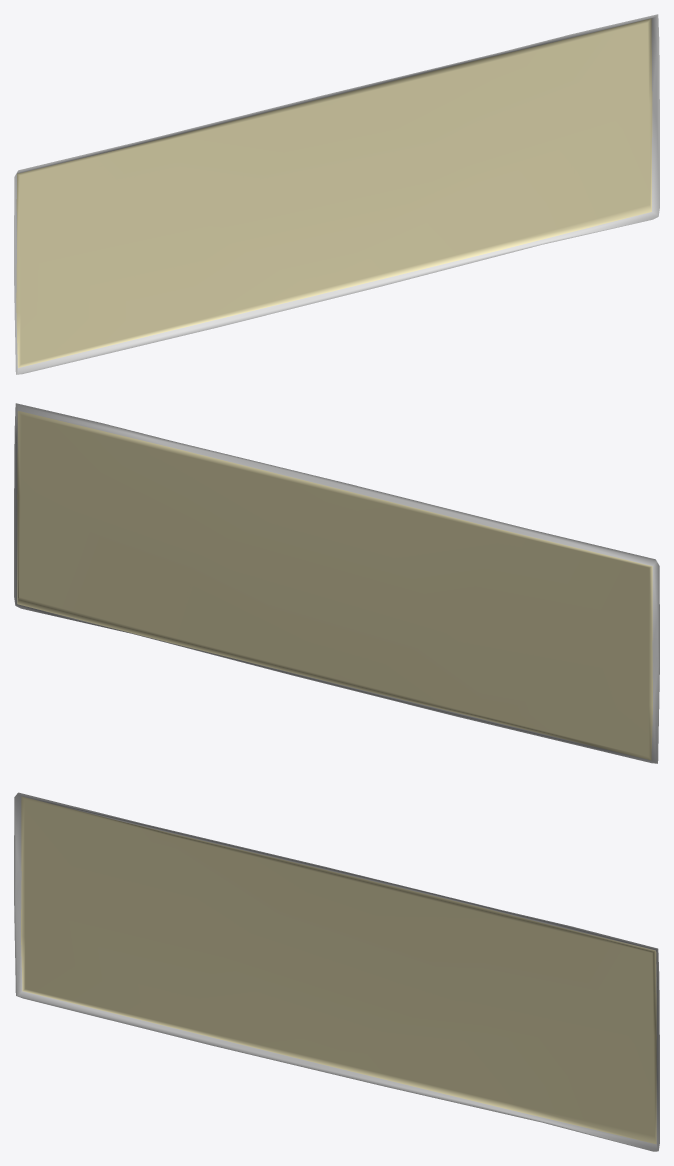
The model's file is ui_inset_lg_10x3.glb.
The picture shows the model from 3 angles, top to bottom: view 1: azimuth 30°, elevation 25°; view 2: azimuth 150°, elevation 25°; view 3: azimuth 330°, elevation 25°; orthographic projection.
Visible parts, largest first — view 1: Cube; view 2: Cube; view 3: Cube.
Part boxes in pixels (x1,y1,x2,y2): Cube: (14,14,659,374); Cube: (14,403,659,763); Cube: (14,792,659,1151).
Size of the model in its own units: 2 by 0.6128 by 0.0151.
